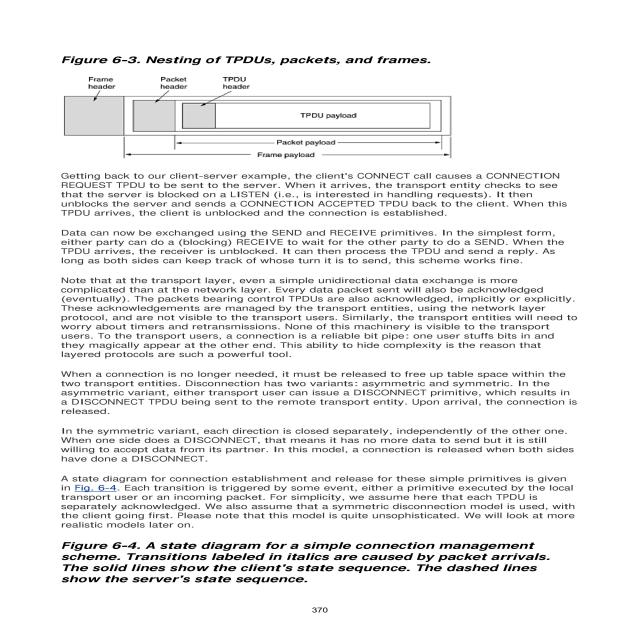diagram: (52, 33, 505, 170)
